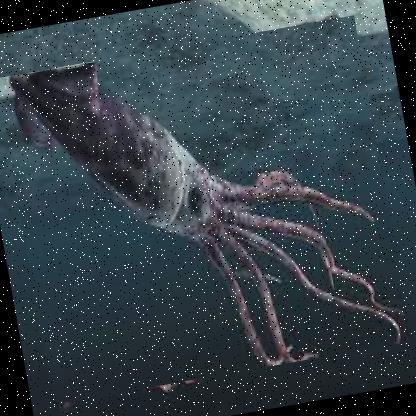colossal_squid: (0, 14, 412, 405)
